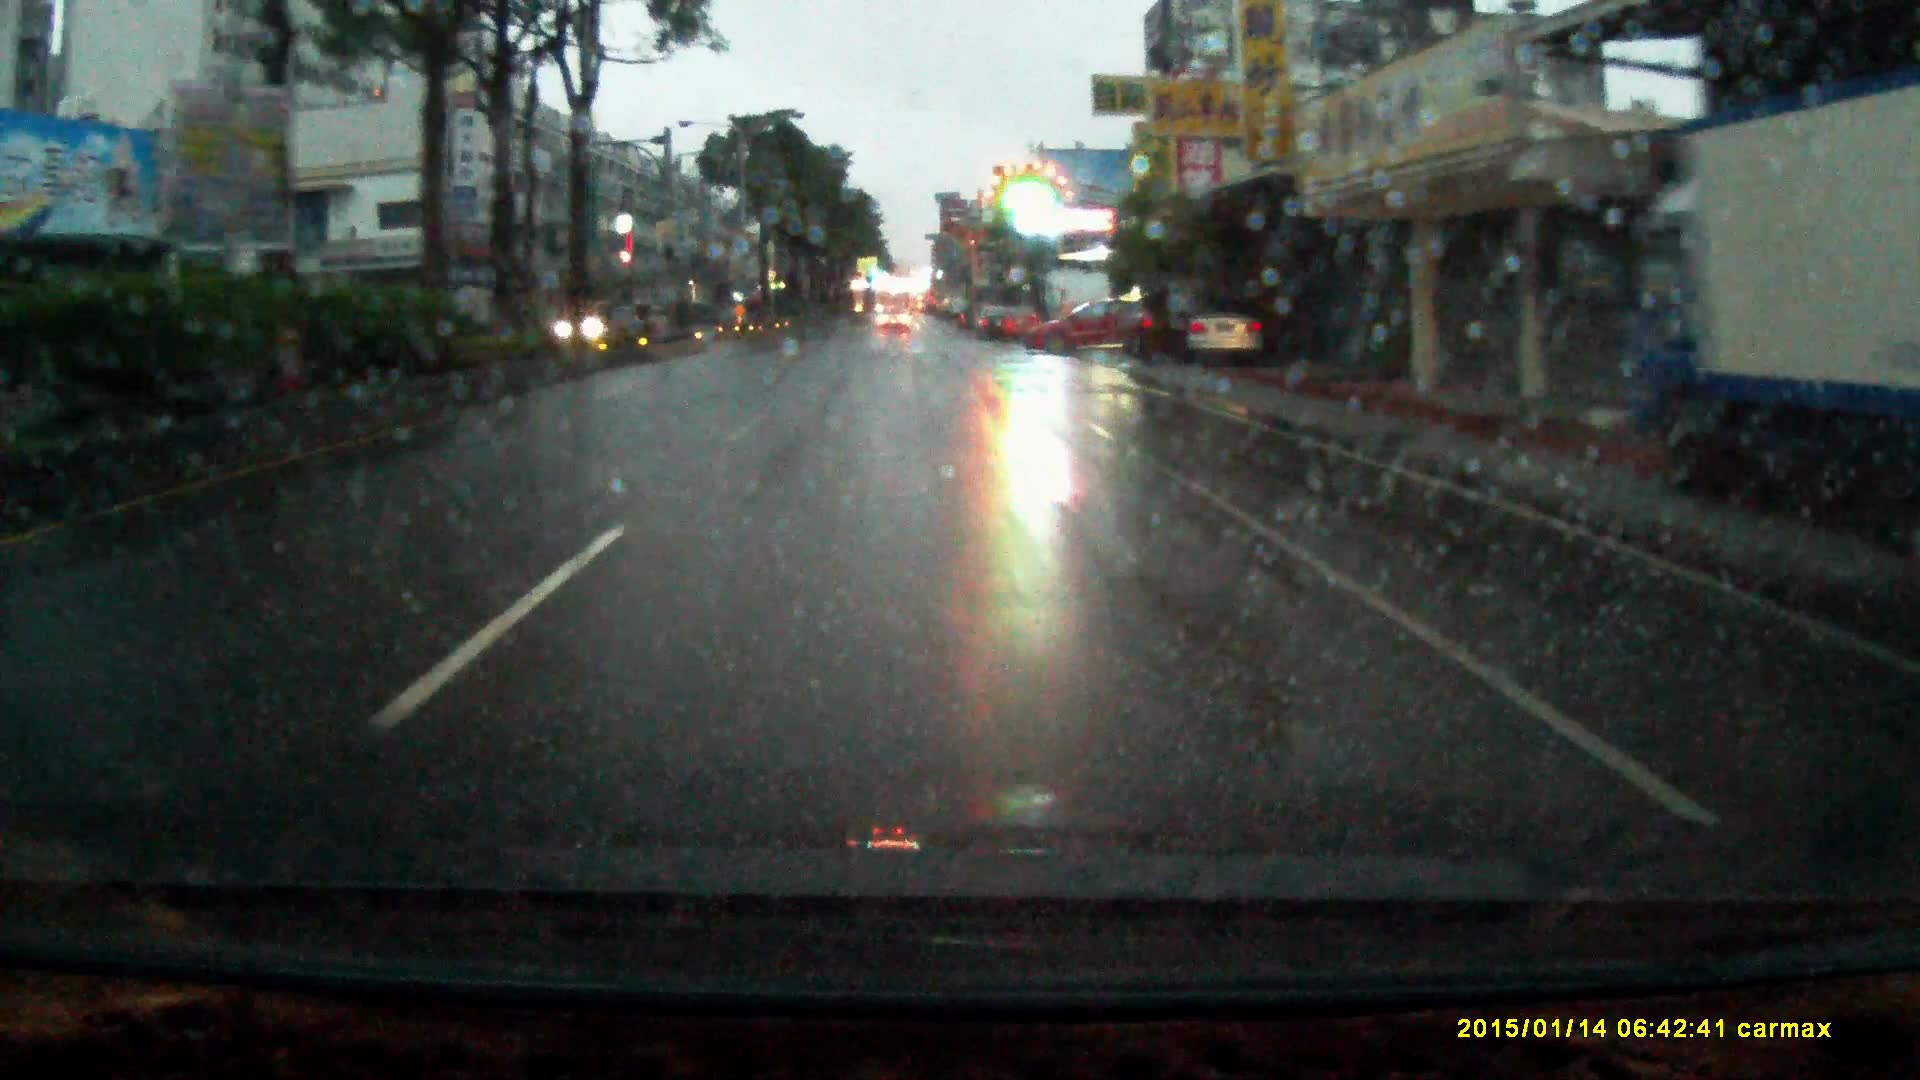vehicle: (1582, 94, 1920, 480), (1022, 294, 1158, 351), (1182, 293, 1269, 363), (1120, 291, 1196, 357), (1002, 299, 1044, 336), (880, 303, 913, 331)
